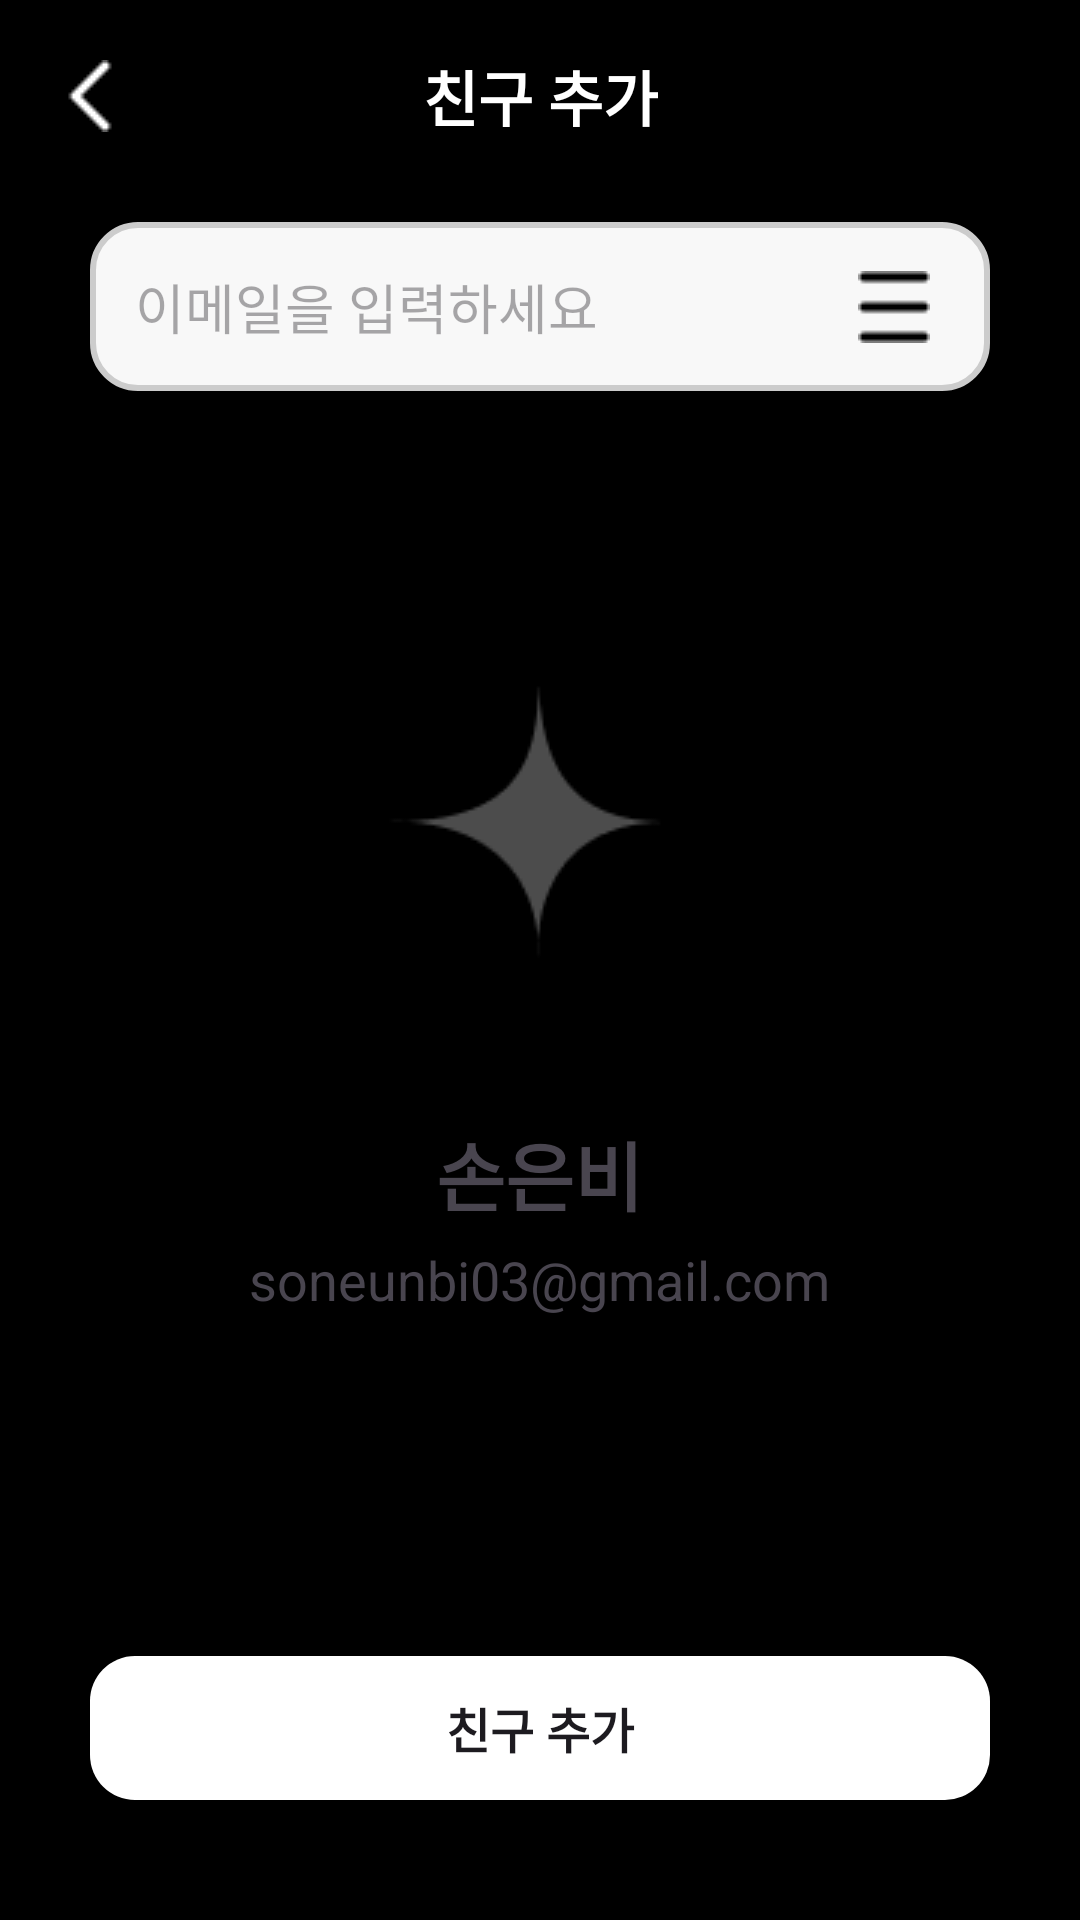

Icons on this 1080w x 1920h Android screen, each with the point to tap as point (x, y):
back: point (90, 96)
